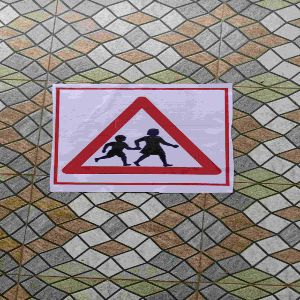schools: (57, 93, 227, 183)
